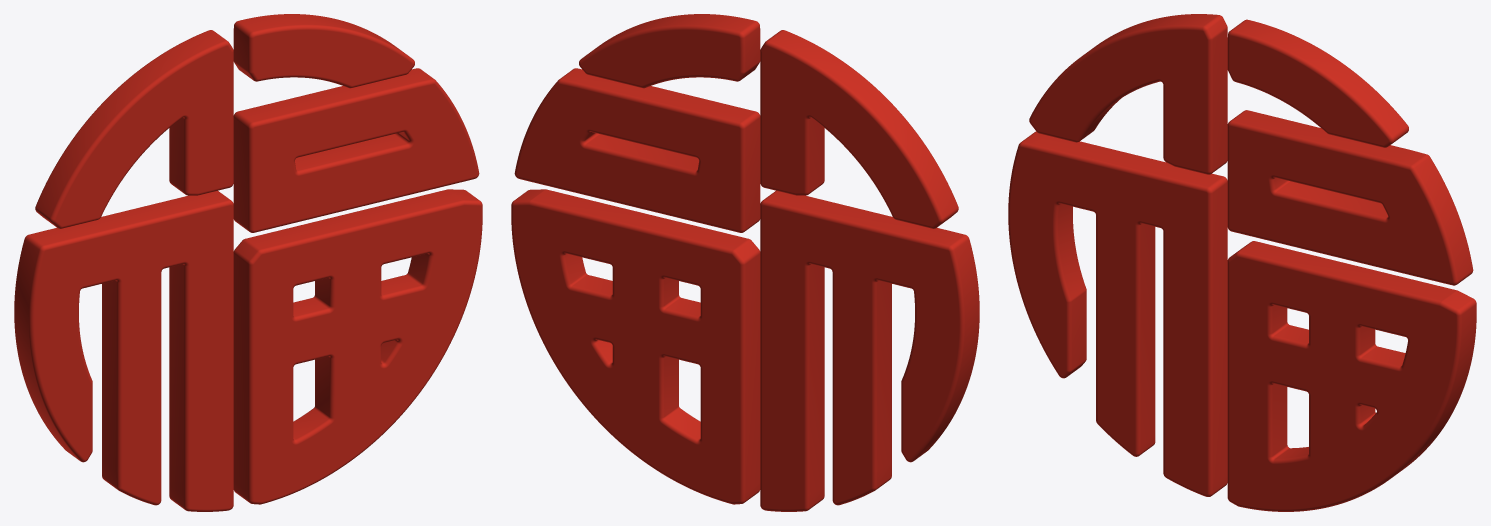
File: fu-circular.glb
3 views of the same model, side by side, from view 1: azimuth 30°, elevation 25°; view 2: azimuth 150°, elevation 25°; view 3: azimuth 330°, elevation 25° (orthographic).
Parts seen in each view (by area): view 1: geometry_0; view 2: geometry_0; view 3: geometry_0.
Boxes of the visible parts, <box> form: geometry_0: <box>14,14,482,511</box>; geometry_0: <box>511,14,979,511</box>; geometry_0: <box>1008,14,1476,511</box>.
Bounding box in the file's own units: 1 × 0.9999 × 0.07.
